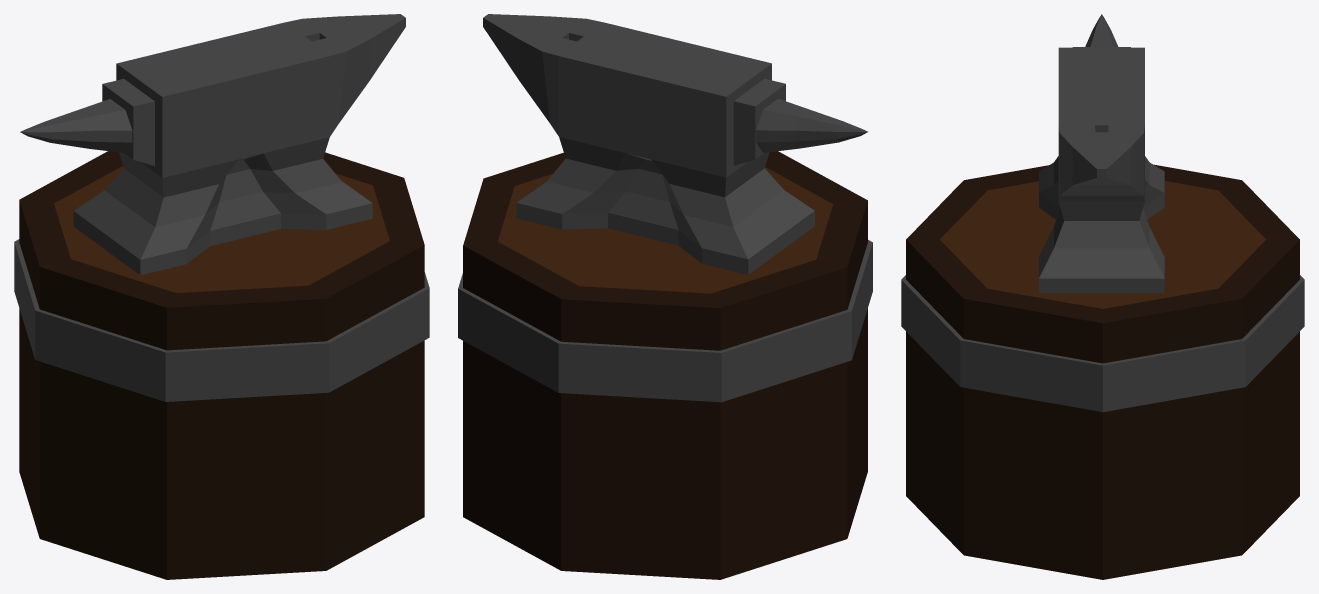
File: Anvil_FBX.fbx
The picture shows the model from 3 angles, left to right: view 1: azimuth 30°, elevation 25°; view 2: azimuth 150°, elevation 25°; view 3: azimuth 270°, elevation 25°; orthographic projection. The views are drawn at different scales.
Visible parts, largest first — view 1: Anvil_Holder, Anvil; view 2: Anvil_Holder, Anvil; view 3: Anvil_Holder, Anvil.
Boxes of the visible parts, left/top/right/bottom form: Anvil_Holder: left=14, top=151, right=429, bottom=579; Anvil: left=20, top=14, right=405, bottom=275; Anvil_Holder: left=458, top=151, right=872, bottom=579; Anvil: left=483, top=14, right=868, bottom=274; Anvil_Holder: left=901, top=164, right=1304, bottom=579; Anvil: left=1039, top=14, right=1164, bottom=293.
Size of the model in its own units: 97.8 by 104 by 93.08.
